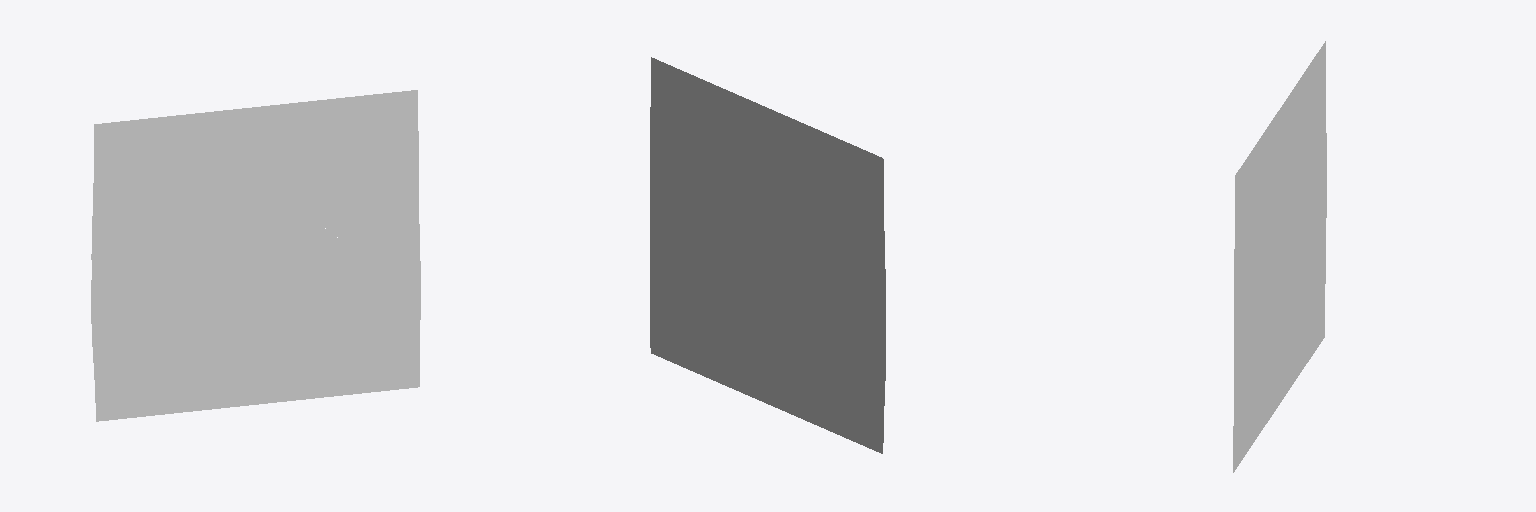
The model's file is object_result.obj.
3 renders of one model, left to right at view 1: azimuth 30°, elevation 25°; view 2: azimuth 150°, elevation 25°; view 3: azimuth 270°, elevation 25°, orthographic.
Bounding box in the file's own units: 23.25 × 23.33 × 6.63.